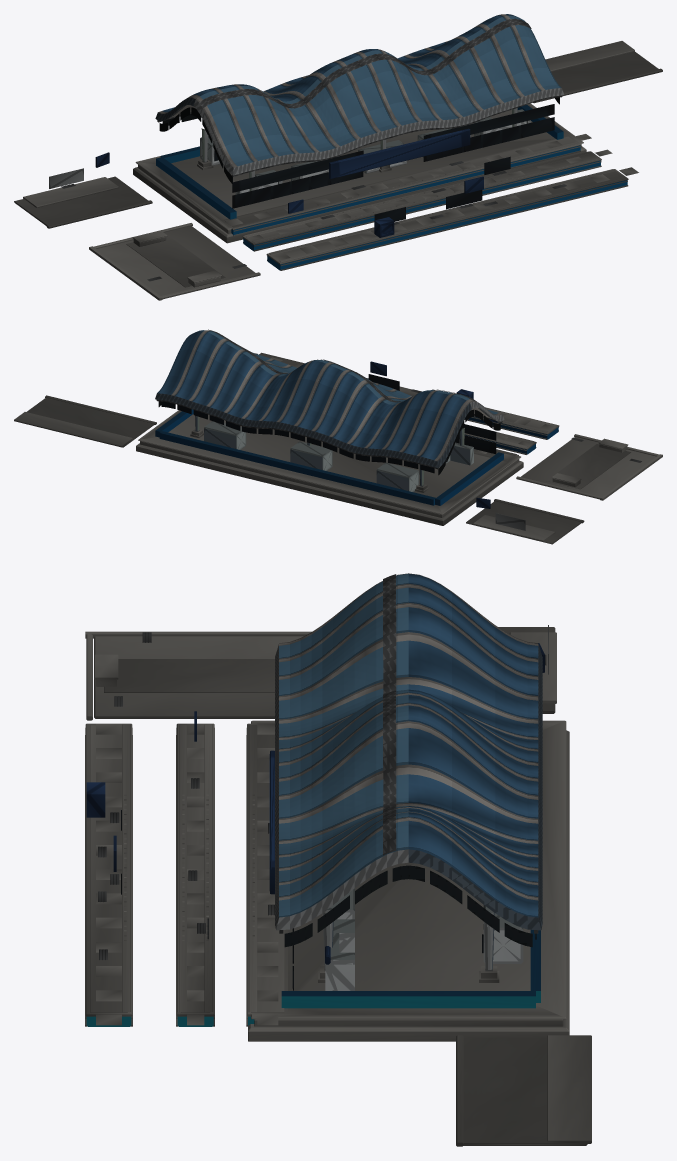
Rendered from southern-cross-lod1.glb.
The picture shows the model from 3 angles, top to bottom: view 1: azimuth 30°, elevation 25°; view 2: azimuth 150°, elevation 25°; view 3: azimuth 270°, elevation 25°; orthographic projection. The views are drawn at different scales.
Parts seen in each view (by area): view 1: fringe:southern-cross-roof-shell, fringe:southern-cross-platforms, fringe:southern-cross-forecourts, fringe:southern-cross-frontage, fringe:southern-cross-concourse, fringe:southern-cross-hall-frame, fringe:southern-cross-hall-base, fringe:southern-cross-roof-plant, fringe:southern-cross-platform-furniture; view 2: fringe:southern-cross-roof-shell, fringe:southern-cross-forecourts, fringe:southern-cross-hall-base, fringe:southern-cross-concourse, fringe:southern-cross-hall-frame, fringe:southern-cross-platforms, fringe:southern-cross-frontage, fringe:southern-cross-platform-furniture, fringe:southern-cross-roof-plant; view 3: fringe:southern-cross-roof-shell, fringe:southern-cross-platforms, fringe:southern-cross-forecourts, fringe:southern-cross-concourse, fringe:southern-cross-hall-base, fringe:southern-cross-hall-frame, fringe:southern-cross-roof-plant, fringe:southern-cross-platform-furniture, fringe:southern-cross-frontage.
Boxes of the visible parts, box(x1,y1,x2,y2) form: fringe:southern-cross-roof-shell: box(155, 14, 564, 175); fringe:southern-cross-platforms: box(221, 134, 638, 270); fringe:southern-cross-forecourts: box(14, 41, 662, 300); fringe:southern-cross-frontage: box(232, 104, 554, 208); fringe:southern-cross-concourse: box(171, 109, 555, 216); fringe:southern-cross-hall-frame: box(156, 95, 563, 219); fringe:southern-cross-hall-base: box(133, 103, 586, 243); fringe:southern-cross-roof-plant: box(199, 18, 531, 108); fringe:southern-cross-platform-furniture: box(288, 156, 566, 237); fringe:southern-cross-roof-shell: box(155, 330, 504, 467); fringe:southern-cross-forecourts: box(14, 395, 662, 544); fringe:southern-cross-hall-base: box(136, 410, 523, 525); fringe:southern-cross-concourse: box(168, 414, 490, 497); fringe:southern-cross-hall-frame: box(155, 399, 503, 505); fringe:southern-cross-platforms: box(255, 352, 559, 462); fringe:southern-cross-frontage: box(455, 424, 496, 454); fringe:southern-cross-platform-furniture: box(367, 361, 497, 422); fringe:southern-cross-roof-plant: box(208, 329, 476, 402); fringe:southern-cross-roof-shell: box(275, 573, 542, 930); fringe:southern-cross-platforms: box(85, 723, 287, 1026); fringe:southern-cross-forecourts: box(85, 625, 591, 1146); fringe:southern-cross-concourse: box(288, 862, 530, 990); fringe:southern-cross-hall-base: box(248, 720, 569, 1041); fringe:southern-cross-hall-frame: box(279, 865, 540, 1008); fringe:southern-cross-roof-plant: box(383, 574, 396, 855); fringe:southern-cross-platform-furniture: box(86, 711, 274, 959); fringe:southern-cross-frontage: box(269, 750, 293, 990).
Size of the model in its own units: 98.4 by 17.19 by 40.67.
Materials: 7 (7 with a texture image).
